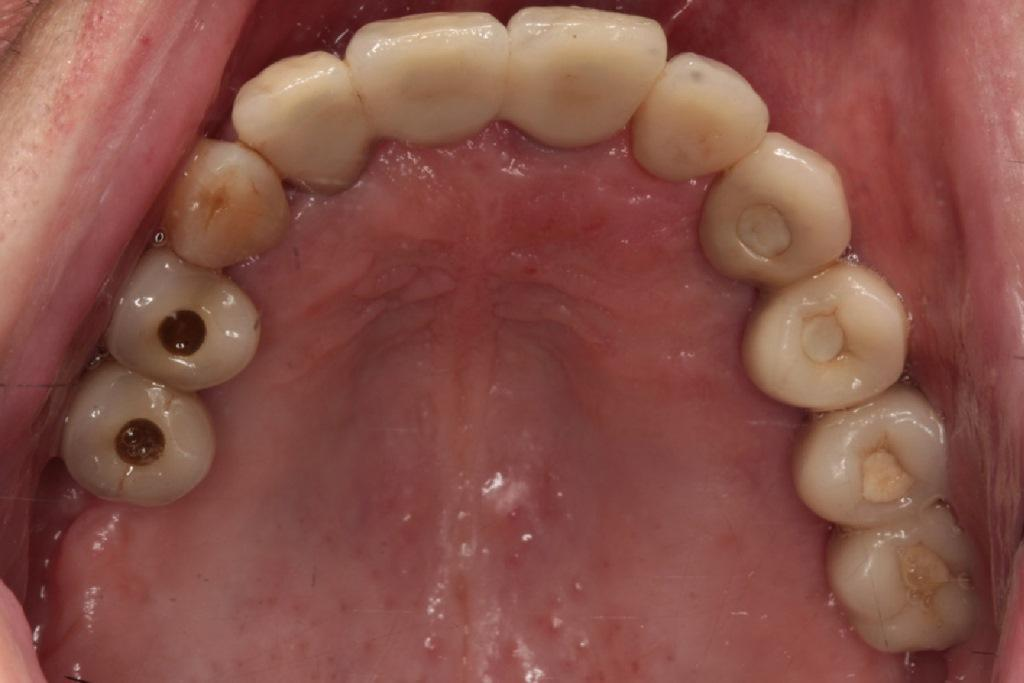UL1BC_decay: (740, 282, 906, 404)
UL1M_decay: (826, 524, 976, 646)
UL2BC_decay: (797, 408, 937, 525)
ULCI_healthy: (516, 17, 651, 146)
ULC_decay: (695, 149, 853, 279)
ULLI_healthy: (628, 70, 759, 168)
UR1BC_decay: (120, 274, 251, 385)
UR2BC_decay: (62, 390, 206, 497)
URCI_healthy: (361, 17, 512, 146)
URC_decay: (176, 147, 286, 269)
URLI_healthy: (236, 60, 365, 183)
